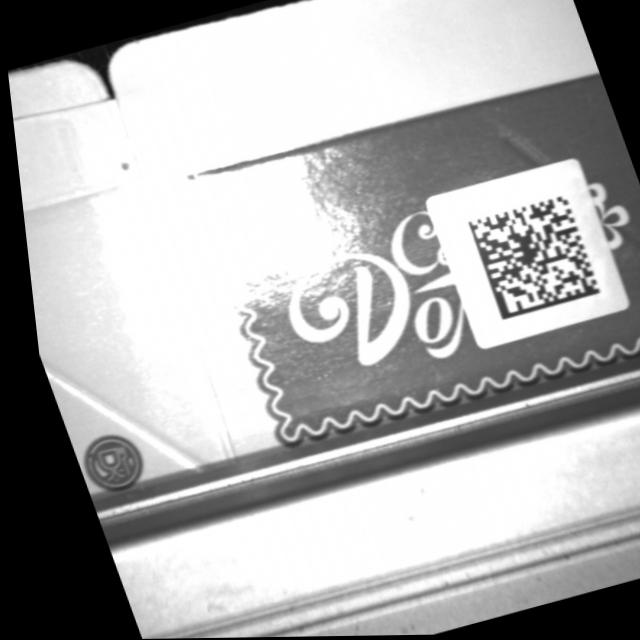datamatrix: (459, 196, 598, 323)
